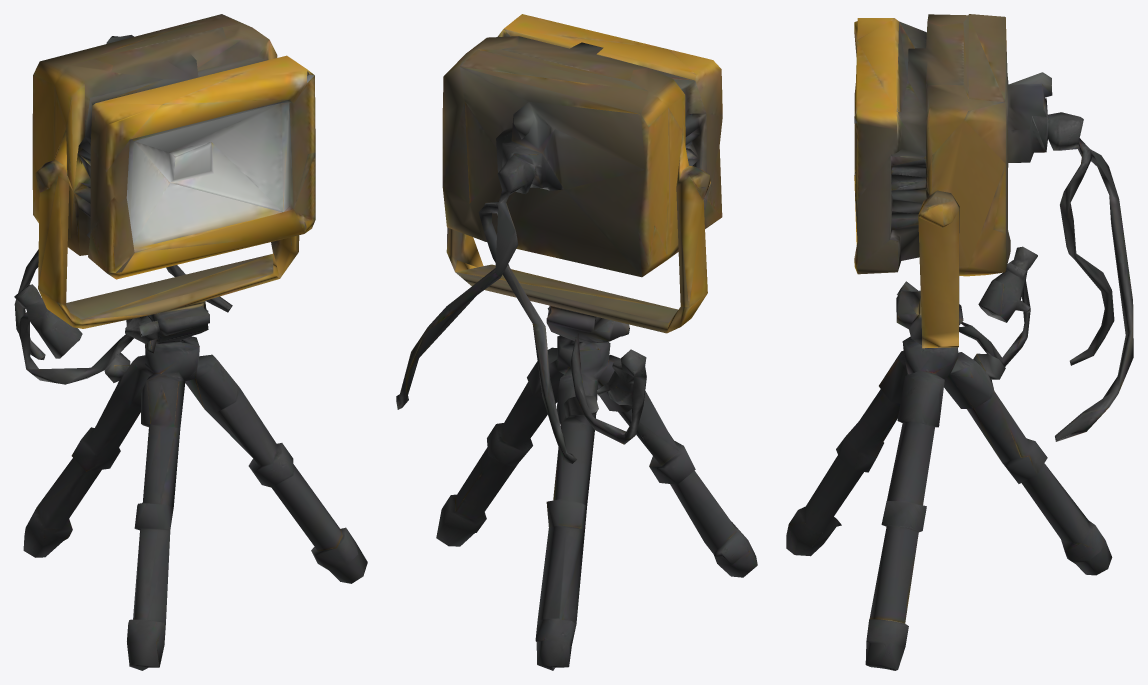
3 renders of one model, left to right at view 1: azimuth 30°, elevation 25°; view 2: azimuth 150°, elevation 25°; view 3: azimuth 270°, elevation 25°, orthographic.
Size of the model in its own units: 1.07 by 1.9 by 1.09.
1 material, 1 textured.
